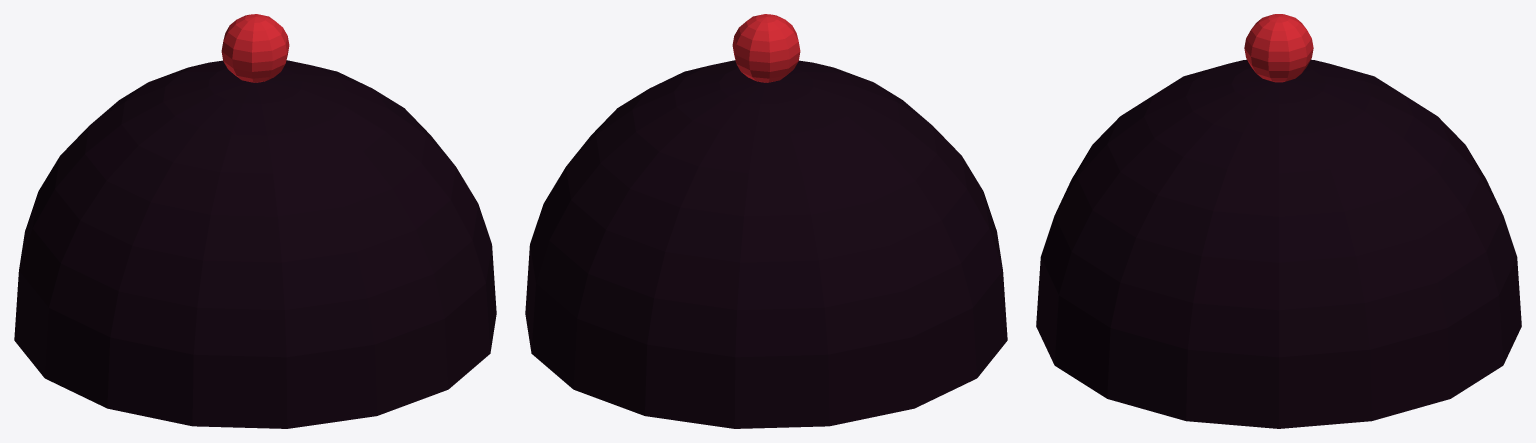
File: chiaHat.fbx
3 views of the same model, side by side, from view 1: azimuth 30°, elevation 25°; view 2: azimuth 150°, elevation 25°; view 3: azimuth 270°, elevation 25° (orthographic).
Visible parts, largest first — view 1: Chiaotzuhat; view 2: Chiaotzuhat; view 3: Chiaotzuhat.
Part boxes in pixels (left/top/right/bottom): Chiaotzuhat: left=14, top=14, right=496, bottom=428; Chiaotzuhat: left=525, top=14, right=1007, bottom=428; Chiaotzuhat: left=1036, top=14, right=1521, bottom=428.
Size of the model in its own units: 1 by 1 by 0.7032.
